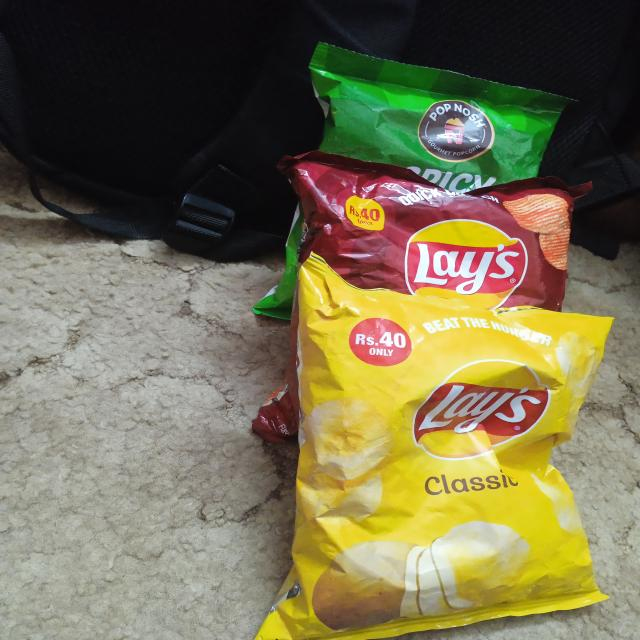Plastic: (252, 302, 618, 640), (273, 143, 595, 291), (293, 32, 589, 151)
